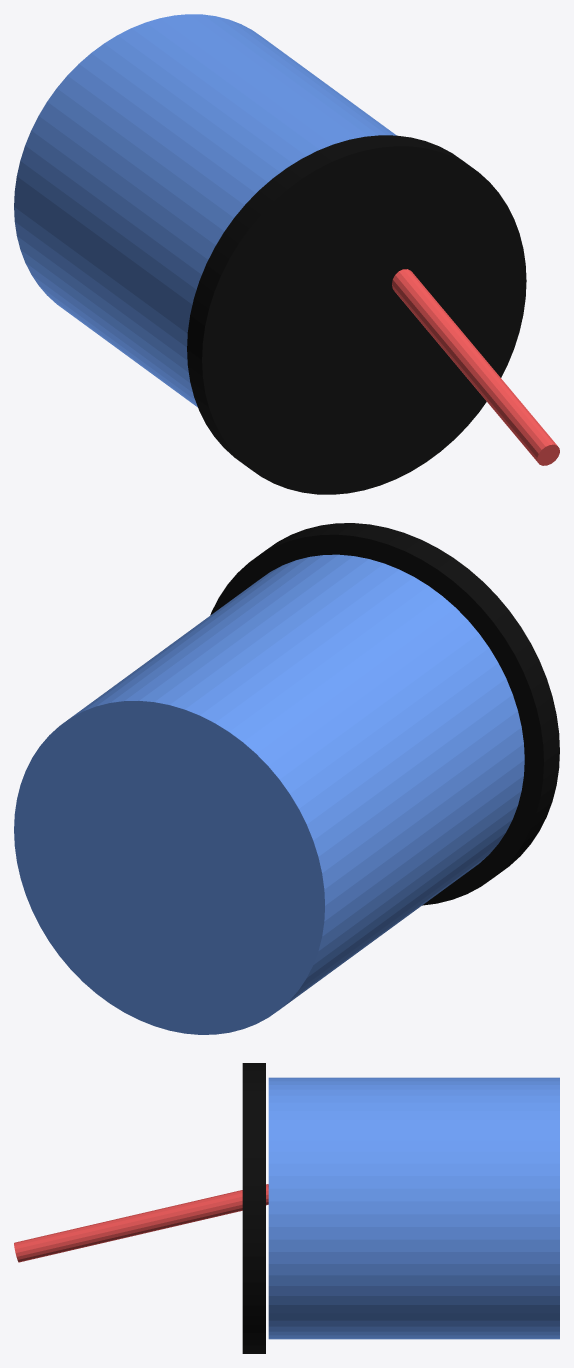
File: drink.glb
3 renders of one model, top to bottom at view 1: azimuth 30°, elevation 25°; view 2: azimuth 150°, elevation 25°; view 3: azimuth 270°, elevation 25°, orthographic. The views are drawn at different scales.
Visible parts, largest first — view 1: world; view 2: world; view 3: world.
Boxes of the visible parts, box(x1,y1,x2,y2) form: world: box(14, 14, 559, 494); world: box(14, 523, 559, 1034); world: box(14, 1063, 559, 1353).
Bounding box in the file's own units: 1 × 1 × 1.87.
